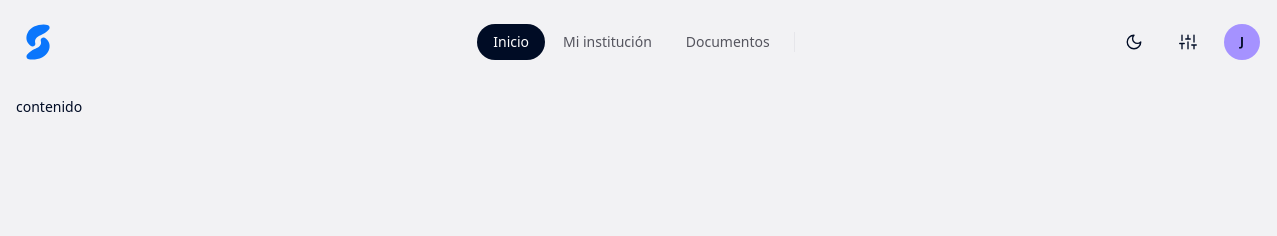
Test: the menu shows what each person may use › direction and accounting do not
The width and height of the screenshot is (1277, 236).
Click the button named "Configuración" at (1188, 42), box [1166,20,1210,64]
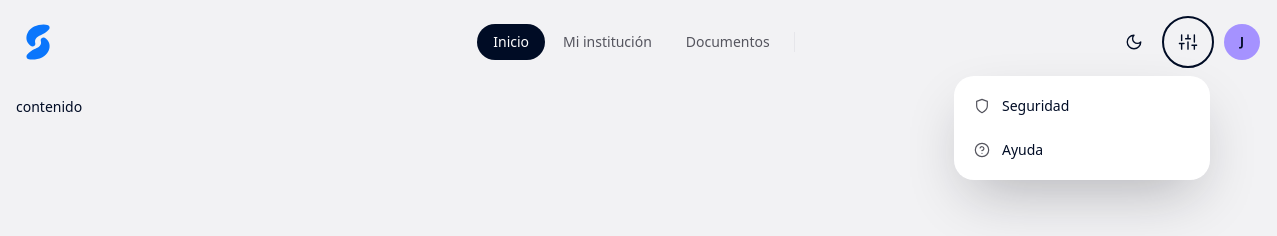
Check: the menu item "Seguridad" is shown, box [962,84,1202,128]
Check: the menu item "Ayuda" is shown, box [962,128,1202,172]
